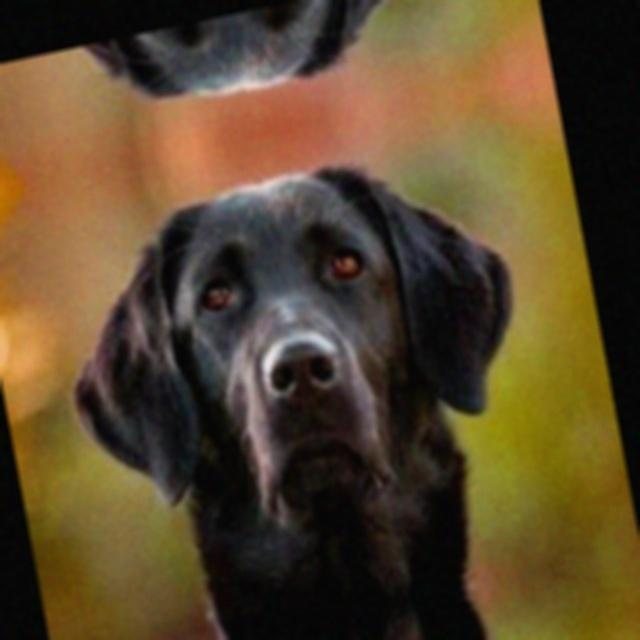dog: (29, 103, 560, 592), (3, 0, 480, 167)
